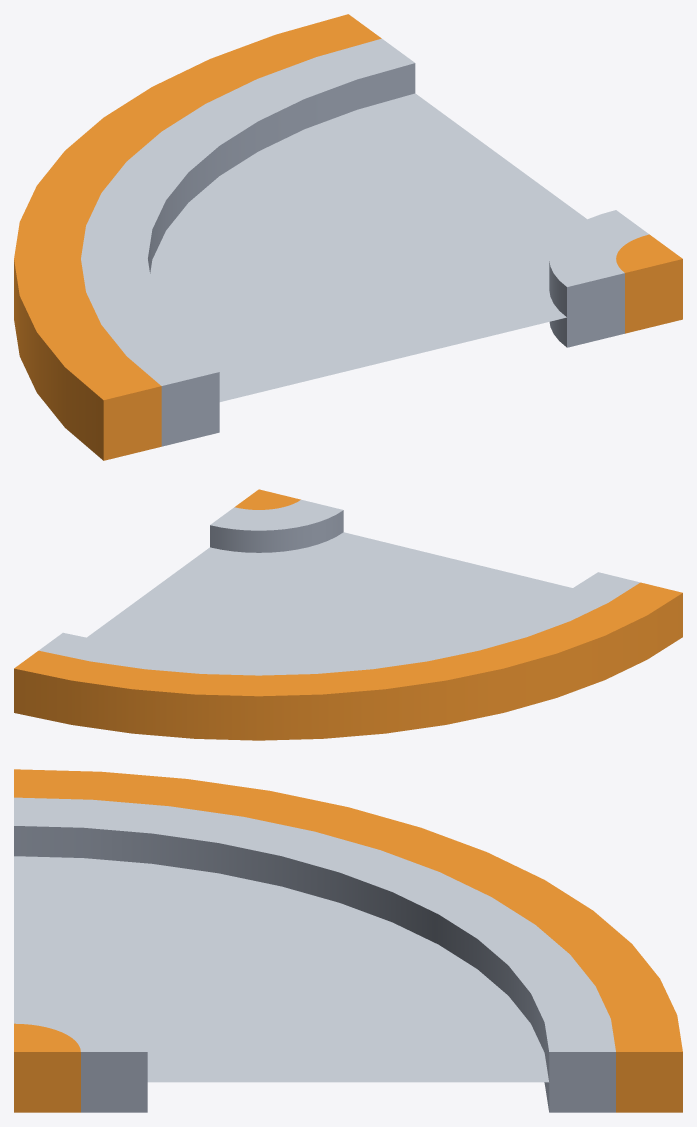
Rendered from platform_cornerRound.glb.
3 views of the same model, one above another, from view 1: azimuth 30°, elevation 25°; view 2: azimuth 150°, elevation 25°; view 3: azimuth 270°, elevation 25° (orthographic). The views are drawn at different scales.
Visible parts, largest first — view 1: platform_cornerRound; view 2: platform_cornerRound; view 3: platform_cornerRound.
Part boxes in pixels (<box>): platform_cornerRound: <box>14,14,682,460</box>; platform_cornerRound: <box>14,489,682,740</box>; platform_cornerRound: <box>14,769,682,1112</box>.
Bounding box in the file's own units: 1 × 0.1 × 1.
